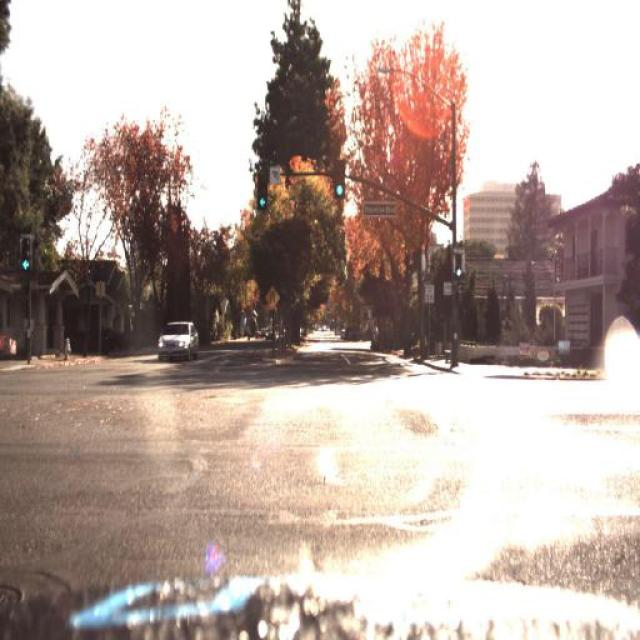car: (154, 319, 202, 359), (156, 319, 198, 359)
trafficLight-GreenLeft: (334, 158, 345, 202), (334, 163, 345, 197), (453, 254, 465, 284), (453, 260, 462, 285)
trafficLight-Red: (252, 165, 269, 211), (258, 177, 268, 212)
